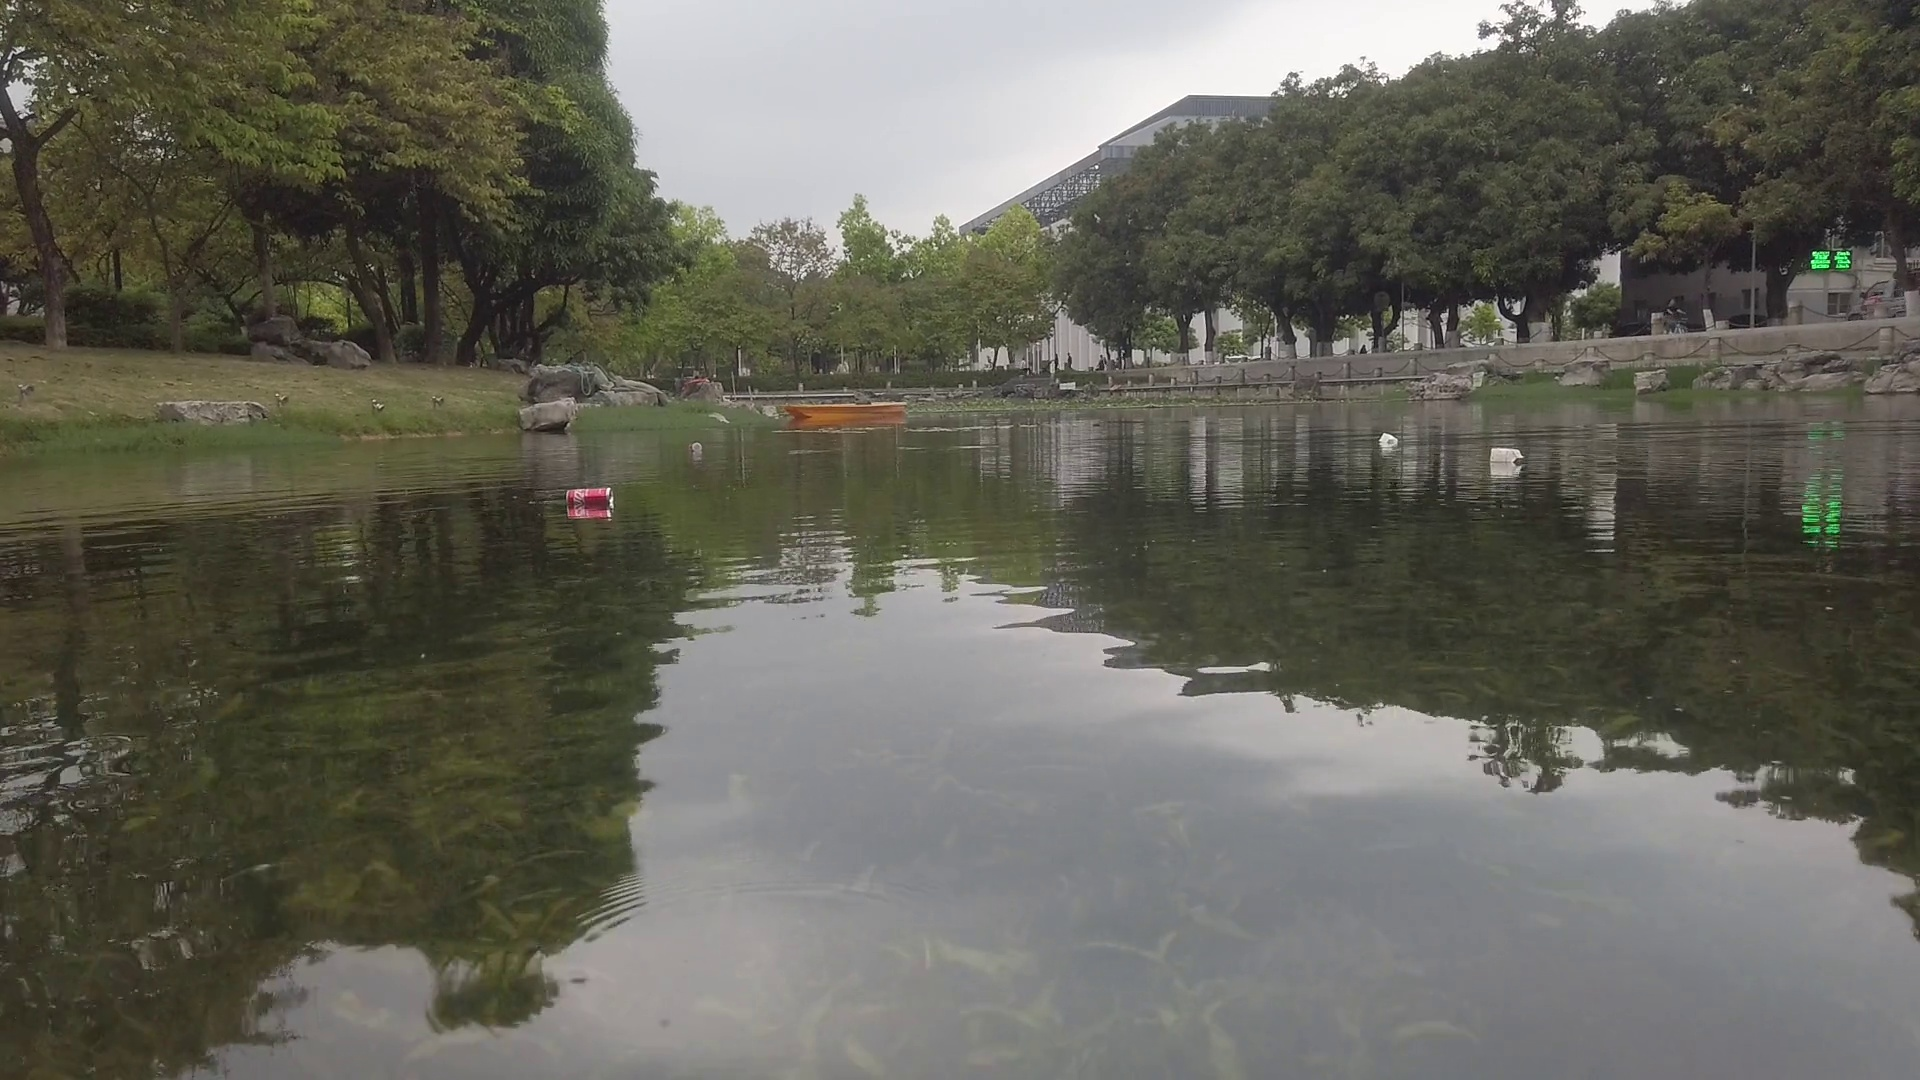bottle: (564, 487, 618, 504), (688, 442, 702, 452)
carton: (1487, 446, 1526, 467), (1379, 433, 1396, 444)
